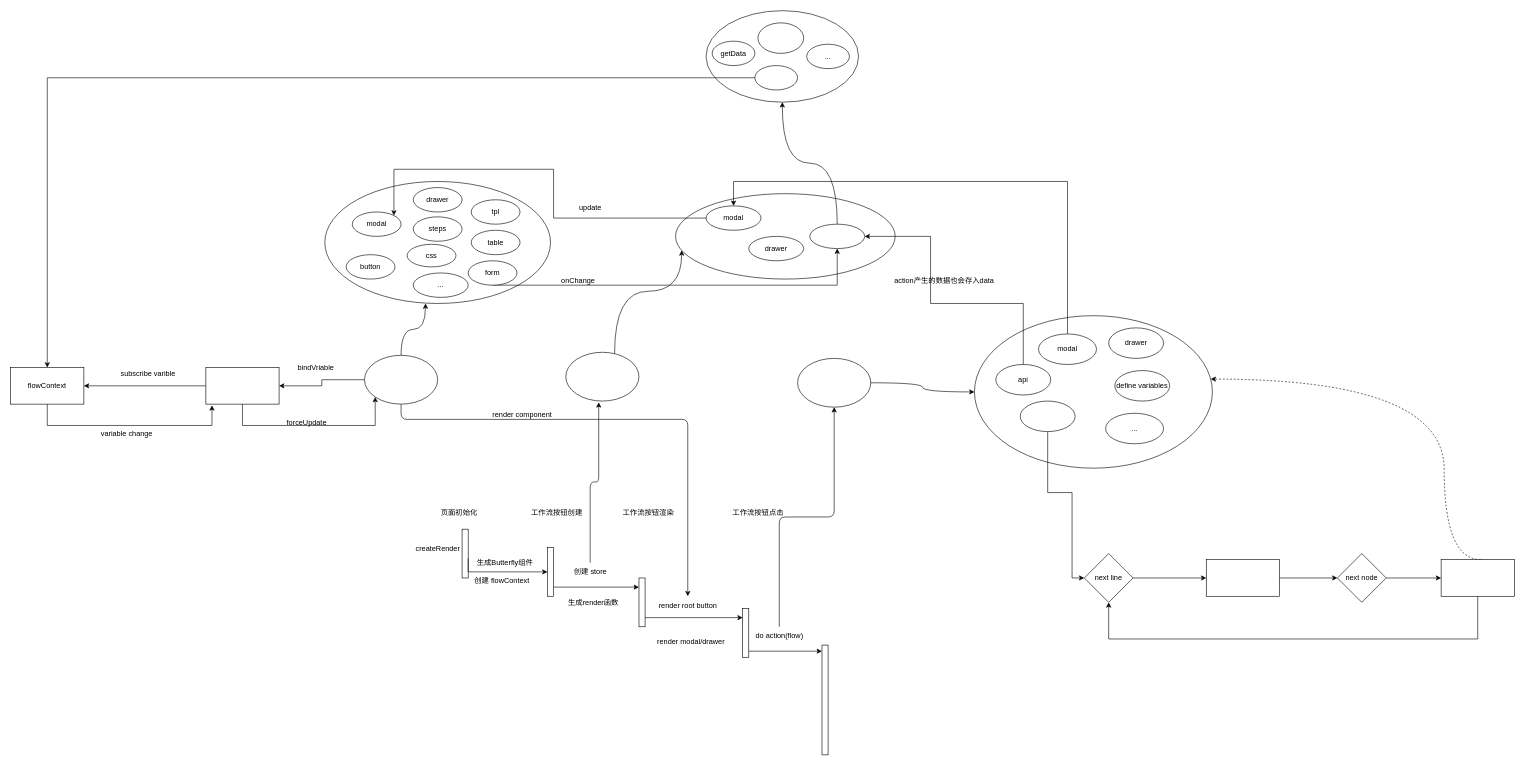
Image size: 1525x766. Some labels were removed from this diagram. Each missing label, with the centre of its shape:
actions: (834,382)
components: (401,379)
data: (837,236)
dataMapping: (780,37)
do action(node.type): (1477,577)
exec line: (1242,577)
flow: (1047,416)
setVariable: (776,77)
store: (602,376)
watchVariableHOC: (242,385)
